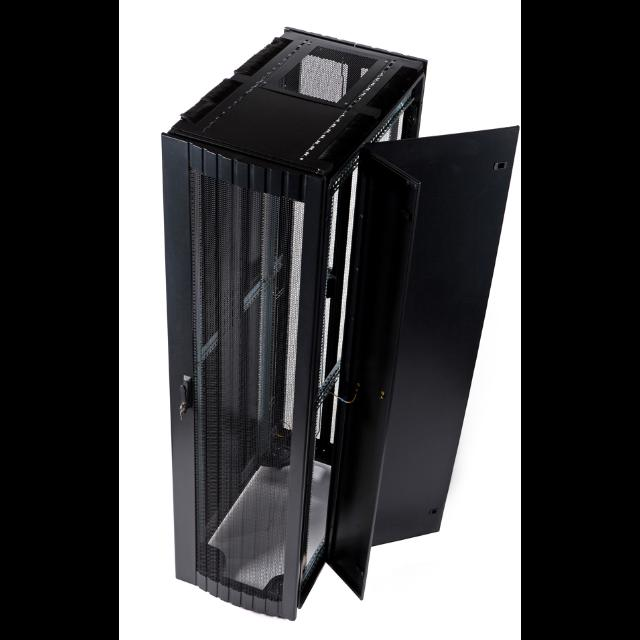Server: (146, 19, 522, 632)
